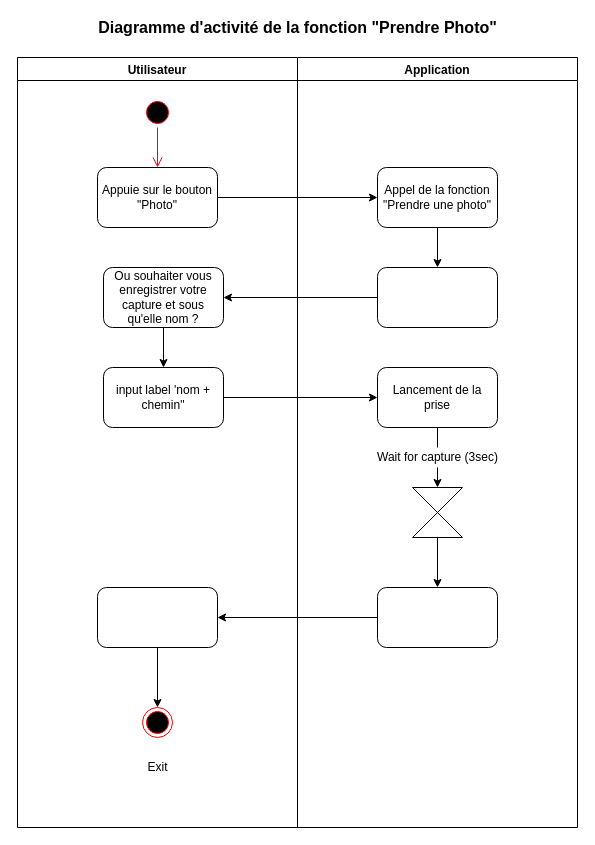
This 595x845 diagram has some shape labels left out. The centre of each missing label's shape, as x and y in pixels:
"AsfForSaveFile" goes at (x=437, y=297).
"photo prise" goes at (x=437, y=617).
"prise avec succès" goes at (x=157, y=617).
